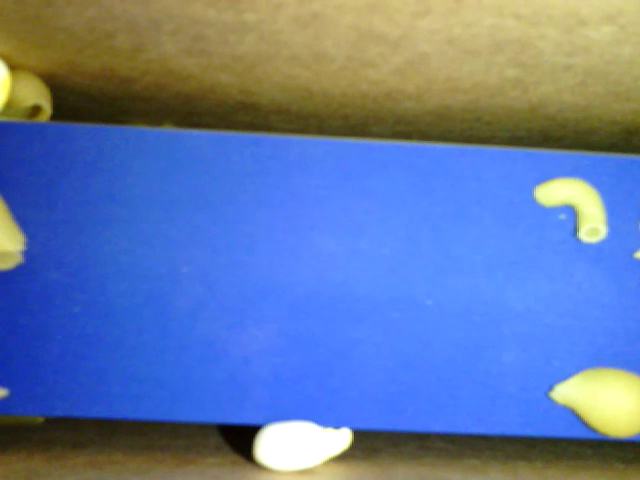elbow: (533, 174, 608, 244)
shell: (546, 364, 639, 437), (3, 68, 56, 125)
